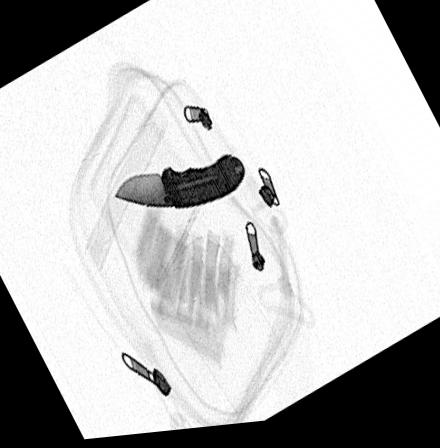Knife: (112, 151, 245, 213)
